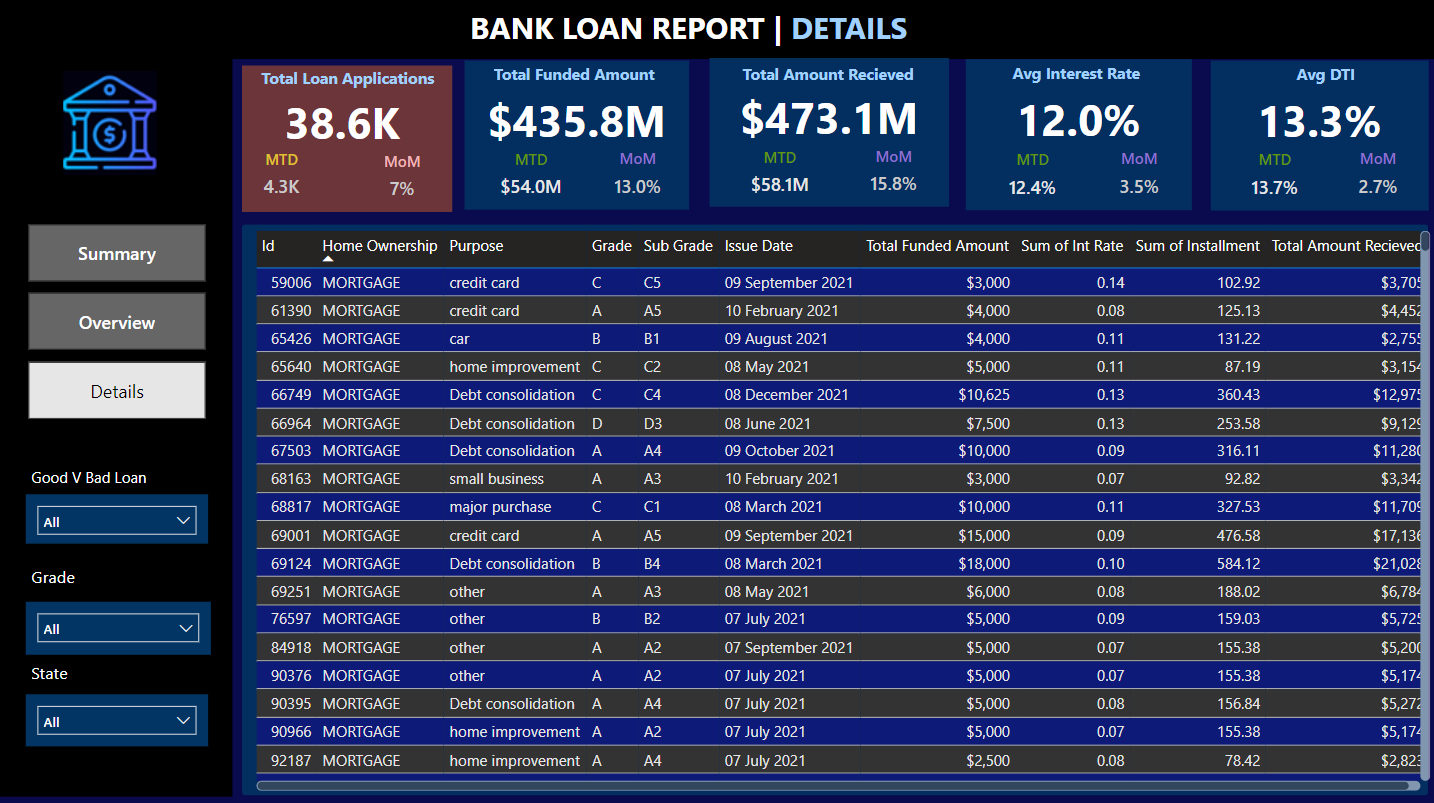

The page's visual inventory and layout, read from the dashboard file:
{"tool":"powerbi","page":{"name":"Details","canvas":[1280,720],"ordinal":2},"visuals":[{"type":"shape","box":[0,0,1279.8,54.5],"z":0},{"type":"shape","box":[633.9,54.5,213.3,132.4],"z":0,"group":"g14"},{"type":"shape","box":[862.1,54.6,201.3,134.8],"z":0,"group":"g11"},{"type":"shape","box":[416.5,55.8,200.2,132.9],"z":0,"group":"g12"},{"type":"shape","box":[1080.7,55.8,194.1,133.6],"z":0,"group":"g13"},{"type":"shape","box":[218.1,59.7,187.5,130.6],"z":1000},{"type":"card","fields":{"Values":["Bank_Loan.Total Amount Recieved"]},"box":[633.8,74.7,213.3,63.2],"z":1000,"group":"g14"},{"type":"card","fields":{"Values":["Bank_Loan.Avg Interest Rate"]},"box":[862,75.1,201.3,64.3],"z":1000,"group":"g11"},{"type":"card","fields":{"Values":["Bank_Loan.Total Funded Amount"]},"box":[416.4,76,200.2,63.4],"z":1000,"group":"g12"},{"type":"card","fields":{"Values":["Bank_Loan.Avg DTI"]},"box":[1080.6,76.1,194.1,63.7],"z":1000,"group":"g13"},{"type":"shape","box":[0,47.6,209.8,663.4],"z":2000},{"type":"textbox","box":[883.7,51.9,179.7,39.1],"z":2000,"group":"g11"},{"type":"textbox","box":[438,53.1,178.7,38.5],"z":2000,"group":"g12"},{"type":"textbox","box":[1101.5,53.1,173.3,38.7],"z":2000,"group":"g13"},{"type":"textbox","box":[657.7,54,177.8,41.7],"z":2000,"group":"g14"},{"type":"card","fields":{"Values":["Bank_Loan.Toatl Loan Applications"]},"box":[209.6,79.3,196.5,62.6],"z":3000},{"type":"card","title":"MTD","fields":{"Values":["Bank_Loan.MTD Total Amount Recieved"]},"box":[659.7,132.9,74.3,53.4],"z":3000,"group":"g14"},{"type":"card","title":"MTD","fields":{"Values":["Bank_Loan.MTD Funded Amount"]},"box":[440.7,134.4,69.7,53.5],"z":3000,"group":"g12"},{"type":"card","title":"MTD","fields":{"Values":["Bank_Loan.MTD Avg Interest Rate"]},"box":[886.4,134.4,70.1,54.3],"z":3000,"group":"g11"},{"type":"card","title":"MTD","fields":{"Values":["Bank_Loan.MTD Average DTI"]},"box":[1104.2,134.9,67.6,53.8],"z":3000,"group":"g13"},{"type":"group","id":"g1","title":"Group 3","box":[862,51.9,201.4,137.5],"z":3001,"group":"g9"},{"type":"group","id":"g2","title":"Group 3","box":[416.4,53.1,200.3,135.5],"z":3001,"group":"g6"},{"type":"group","id":"g3","title":"Group 3","box":[633.8,54,213.4,133],"z":3001,"group":"g7"},{"type":"group","id":"g4","title":"Group 4","box":[416.4,53.1,200.3,135.5],"z":3002,"group":"g2"},{"type":"group","id":"g5","title":"Group 4","box":[1080.6,53.1,194.2,136.3],"z":3002,"group":"g8"},{"type":"textbox","box":[230.8,56.7,175.4,38.1],"z":4000},{"type":"card","title":"MoM","fields":{"Values":["Bank_Loan.MOM Total Amount Recieved"]},"box":[767.2,131.3,60.9,54.3],"z":4000,"group":"g14"},{"type":"card","title":"MoM","fields":{"Values":["Bank_Loan.MOM Total Funded Amount"]},"box":[541.6,132.8,57.2,54.5],"z":4000,"group":"g12"},{"type":"card","title":"MoM","fields":{"Values":["Bank_Loan.MoM Avg Interest rate"]},"box":[987.9,132.8,57.5,55.3],"z":4000,"group":"g11"},{"type":"card","title":"MoM","fields":{"Values":["Bank_Loan.MOM Avg DTI"]},"box":[1202,133.3,55.4,54.8],"z":4000,"group":"g13"},{"type":"shape","box":[218.3,201.2,1056.1,508.5],"z":5000},{"type":"card","title":"MTD","fields":{"Values":["Bank_Loan.MTD Loan Applications"]},"box":[230.2,135.1,46.1,53.1],"z":6000},{"type":"card","title":"MoM","fields":{"Values":["Bank_Loan.MOM Loan Applications"]},"box":[332.5,135.4,56.1,53.8],"z":7000},{"type":"textbox","box":[416.1,3.6,447.4,48.2],"z":8000},{"type":"group","id":"g6","title":"Group 1","box":[416.4,53.1,200.3,135.5],"z":9000},{"type":"group","id":"g7","title":"Group 1","box":[633.8,54,213.4,133],"z":10000},{"type":"group","id":"g8","title":"Group 3","box":[1080.6,53.1,194.2,136.3],"z":11000},{"type":"group","id":"g9","title":"Group 1","box":[862,51.9,201.4,137.5],"z":12000},{"type":"tableEx","fields":{"Values":["Bank_Loan.id","Bank_Loan.home_ownership","Bank_Loan.purpose","Bank_Loan.grade","Bank_Loan.sub_grade","Bank_Loan.issue_date","Bank_Loan.Total Funded Amount","Sum(Bank_Loan.int_rate)","Sum(Bank_Loan.installment)","Bank_Loan.Total Amount Recieved"]},"box":[224.4,202.4,1056.1,508.5],"z":13000},{"type":"slicer","fields":{"Values":["Bank_Loan.address_state"]},"box":[25.6,620.7,162.2,46.3],"z":13000,"group":"g10"},{"type":"image","box":[39,59.8,123.2,102.4],"z":14000},{"type":"textbox","box":[25.6,585.4,162.2,35.4],"z":14000,"group":"g10"},{"type":"pageNavigator","box":[28,201.2,158.5,174.4],"z":15000},{"type":"slicer","fields":{"Values":["Bank_Loan.grade"]},"box":[25.6,537.8,164.6,47.6],"z":15000,"group":"g10"},{"type":"group","id":"g10","title":"Group 2","box":[25.6,413.4,164.6,253.7],"z":16000},{"type":"slicer","fields":{"Values":["Bank_Loan.Good Vs Bad Loan"]},"box":[25.6,442.7,162.2,43.9],"z":16000,"group":"g10"},{"type":"textbox","box":[25.6,500,76.8,37.8],"z":17000,"group":"g10"},{"type":"textbox","box":[25.6,413.4,136.6,28],"z":18000,"group":"g10"},{"type":"group","id":"g11","title":"Group 7","box":[862,51.9,201.4,137.5],"z":31002,"group":"g1"},{"type":"group","id":"g12","title":"Group 5","box":[416.4,53.1,200.3,135.5],"z":31002,"group":"g4"},{"type":"group","id":"g13","title":"Group 8","box":[1080.6,53.1,194.2,136.3],"z":31002,"group":"g5"},{"type":"group","id":"g14","title":"Group 6","box":[633.8,54,213.4,133],"z":31002,"group":"g3"}]}

Visuals, with their boxes in screenshot pixels (x1, y1, x2, y2), scaled from the page's 1280x720 canvas onto the 1434x803 screenshot:
shape: detection(0, 0, 1433, 61)
shape: detection(710, 61, 949, 208)
shape: detection(966, 61, 1191, 211)
shape: detection(467, 62, 691, 210)
shape: detection(1211, 62, 1428, 211)
shape: detection(244, 67, 454, 212)
card - Bank_Loan.Total Amount Recieved: detection(710, 83, 949, 154)
card - Bank_Loan.Avg Interest Rate: detection(966, 84, 1191, 155)
card - Bank_Loan.Total Funded Amount: detection(466, 85, 691, 155)
card - Bank_Loan.Avg DTI: detection(1211, 85, 1428, 156)
shape: detection(0, 53, 235, 793)
textbox: detection(990, 58, 1191, 101)
textbox: detection(491, 59, 691, 102)
textbox: detection(1234, 59, 1428, 102)
textbox: detection(737, 60, 936, 107)
card - Bank_Loan.Toatl Loan Applications: detection(235, 88, 455, 158)
"MTD" card: detection(739, 148, 822, 208)
"MTD" card: detection(494, 150, 572, 210)
"MTD" card: detection(993, 150, 1072, 210)
"MTD" card: detection(1237, 150, 1313, 210)
"Group 3" group: detection(966, 58, 1191, 211)
"Group 3" group: detection(466, 59, 691, 210)
"Group 3" group: detection(710, 60, 949, 209)
"Group 4" group: detection(466, 59, 691, 210)
"Group 4" group: detection(1211, 59, 1428, 211)
textbox: detection(259, 63, 455, 106)
"MoM" card: detection(860, 146, 928, 207)
"MoM" card: detection(607, 148, 671, 209)
"MoM" card: detection(1107, 148, 1171, 210)
"MoM" card: detection(1347, 149, 1409, 210)
shape: detection(245, 224, 1428, 792)
"MTD" card: detection(258, 151, 310, 210)
"MoM" card: detection(373, 151, 435, 211)
textbox: detection(466, 4, 967, 58)
"Group 1" group: detection(466, 59, 691, 210)
"Group 1" group: detection(710, 60, 949, 209)
"Group 3" group: detection(1211, 59, 1428, 211)
"Group 1" group: detection(966, 58, 1191, 211)
tableEx - Bank_Loan.id x Bank_Loan.home_ownership: detection(251, 226, 1433, 793)
slicer - Bank_Loan.address_state: detection(29, 692, 210, 744)
image: detection(44, 67, 182, 181)
textbox: detection(29, 653, 210, 692)
pageNavigator: detection(31, 224, 209, 419)
slicer - Bank_Loan.grade: detection(29, 600, 213, 653)
"Group 2" group: detection(29, 461, 213, 744)
slicer - Bank_Loan.Good Vs Bad Loan: detection(29, 494, 210, 543)
textbox: detection(29, 558, 115, 600)
textbox: detection(29, 461, 182, 492)
"Group 7" group: detection(966, 58, 1191, 211)
"Group 5" group: detection(466, 59, 691, 210)
"Group 8" group: detection(1211, 59, 1428, 211)
"Group 6" group: detection(710, 60, 949, 209)
